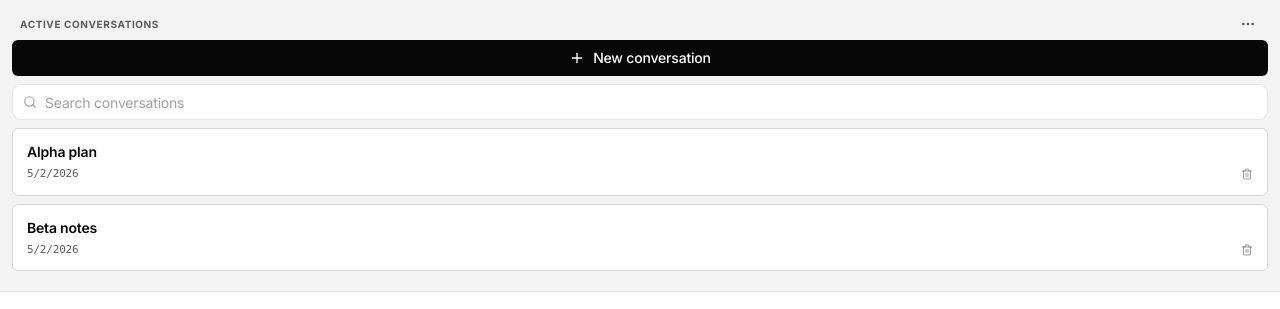
AgentConversationList › filters only the expanded agent's conversations by title
Click the button with test id "conversation-search-toggle" at (115, 102), box [12,84,1268,120]
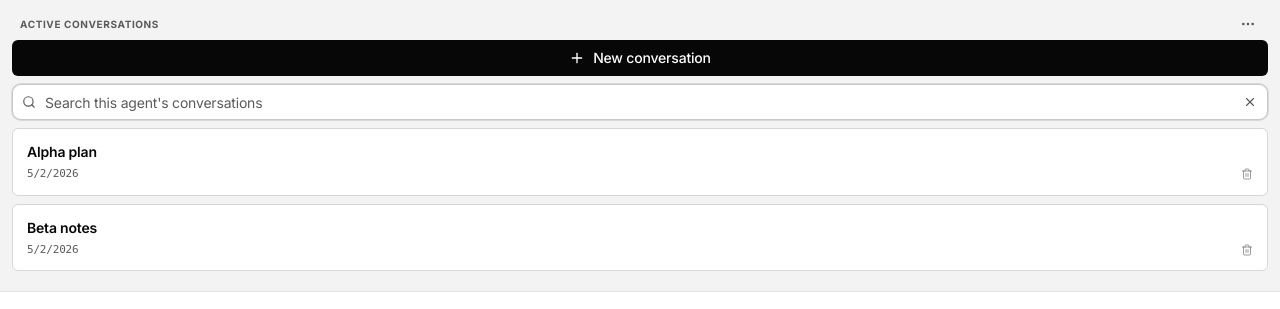
Type "BETA" into the search field with test id "conversation-search-input" at (640, 102), box [12,84,1268,120]
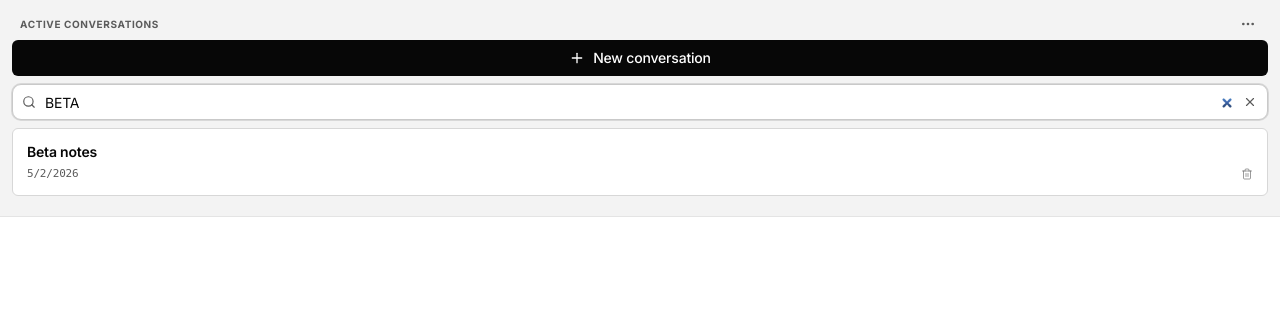
Expected: the element showing "Beta notes 5/2/2026" is shown, [12,128,1268,196]
Expected: the text "Alpha plan" is gone
